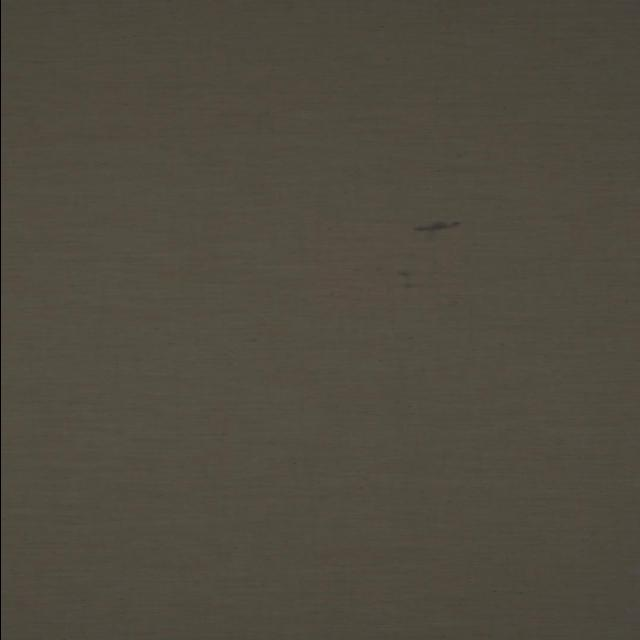dirty: (410, 220, 460, 233)
